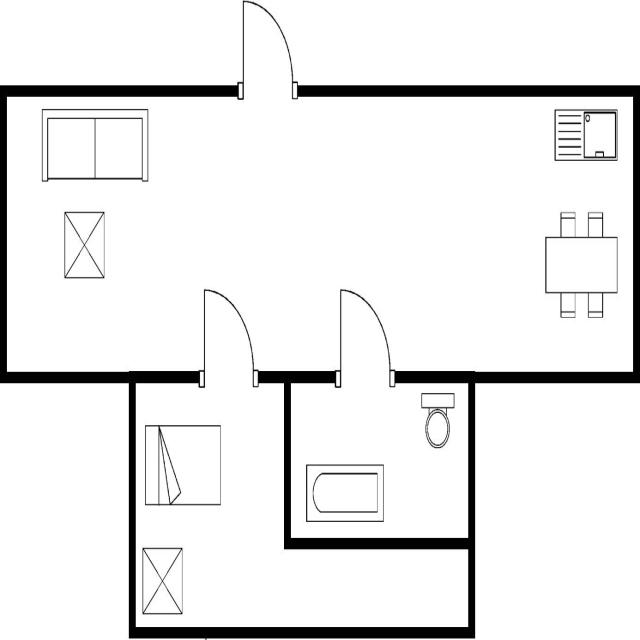bed: (142, 420, 222, 511)
coffee_table: (139, 542, 185, 618), (62, 207, 107, 284)
dining_table: (541, 207, 621, 322)
large_sink: (419, 388, 455, 449)
large_sofa: (38, 104, 152, 189)
sink: (552, 105, 619, 163)
tub: (303, 459, 385, 525)
